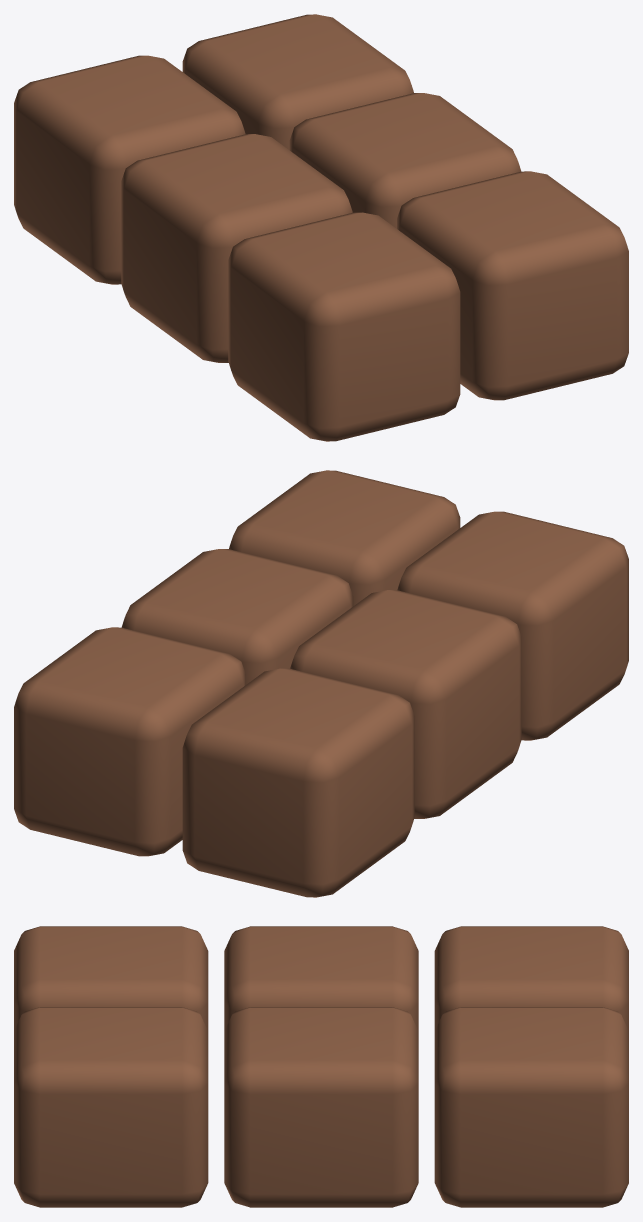
The model's file is load_clay.glb.
The picture shows the model from 3 angles, top to bottom: view 1: azimuth 30°, elevation 25°; view 2: azimuth 150°, elevation 25°; view 3: azimuth 270°, elevation 25°; orthographic projection.
Visible parts, largest first — view 1: Load_clay surface; view 2: Load_clay surface; view 3: Load_clay surface.
Part boxes in pixels (x1,y1,x2,y2): Load_clay surface: (14, 14, 628, 441); Load_clay surface: (14, 470, 628, 897); Load_clay surface: (14, 926, 628, 1207).
Bounding box in the file's own units: 0.226 × 0.1 × 0.38.
